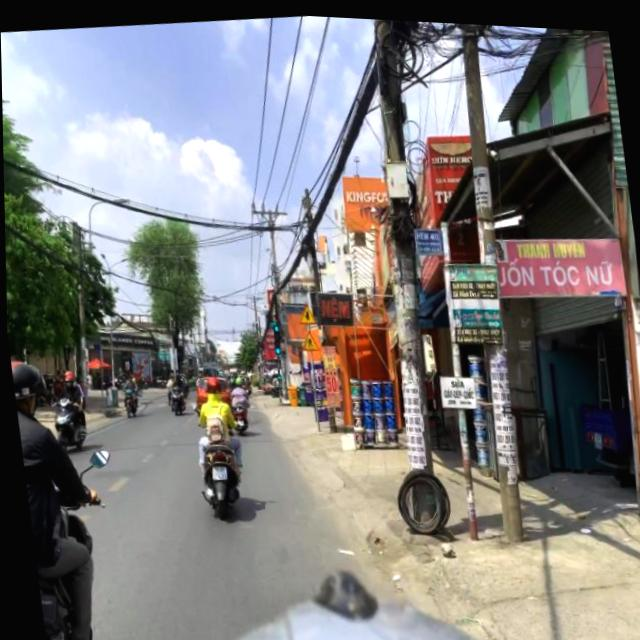Giao nhau voi duong khong uu tien ben trai: (296, 299, 315, 322)
Nguoi di bo cat ngang: (297, 324, 319, 348)
